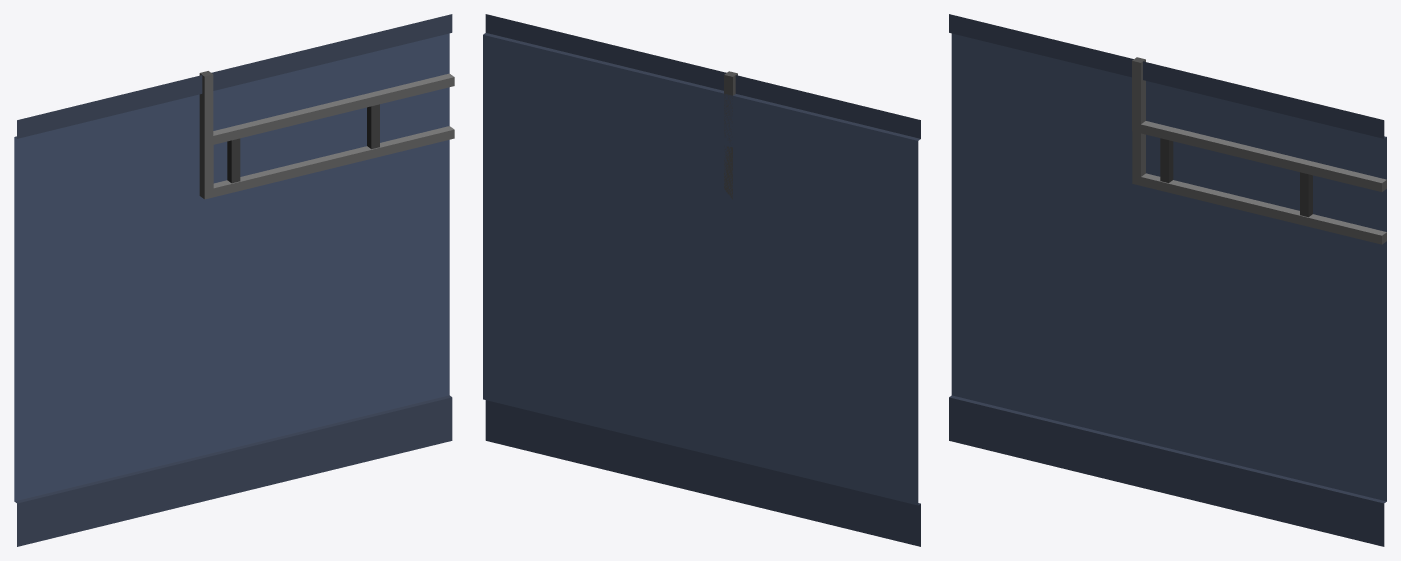
File: AI_Env_Wall_Blue_Electronics_Start.fbx
The picture shows the model from 3 angles, left to right: view 1: azimuth 30°, elevation 25°; view 2: azimuth 150°, elevation 25°; view 3: azimuth 330°, elevation 25°; orthographic projection.
Visible parts, largest first — view 1: AI_Env_Wall_Blue_Electronics_Start; view 2: AI_Env_Wall_Blue_Electronics_Start; view 3: AI_Env_Wall_Blue_Electronics_Start.
Boxes of the visible parts, x1,y1,x2,y2 form: AI_Env_Wall_Blue_Electronics_Start: [14, 14, 454, 546]; AI_Env_Wall_Blue_Electronics_Start: [483, 14, 920, 546]; AI_Env_Wall_Blue_Electronics_Start: [949, 14, 1386, 546].
Bounding box in the file's own units: 5 × 4.69 × 0.0984.
